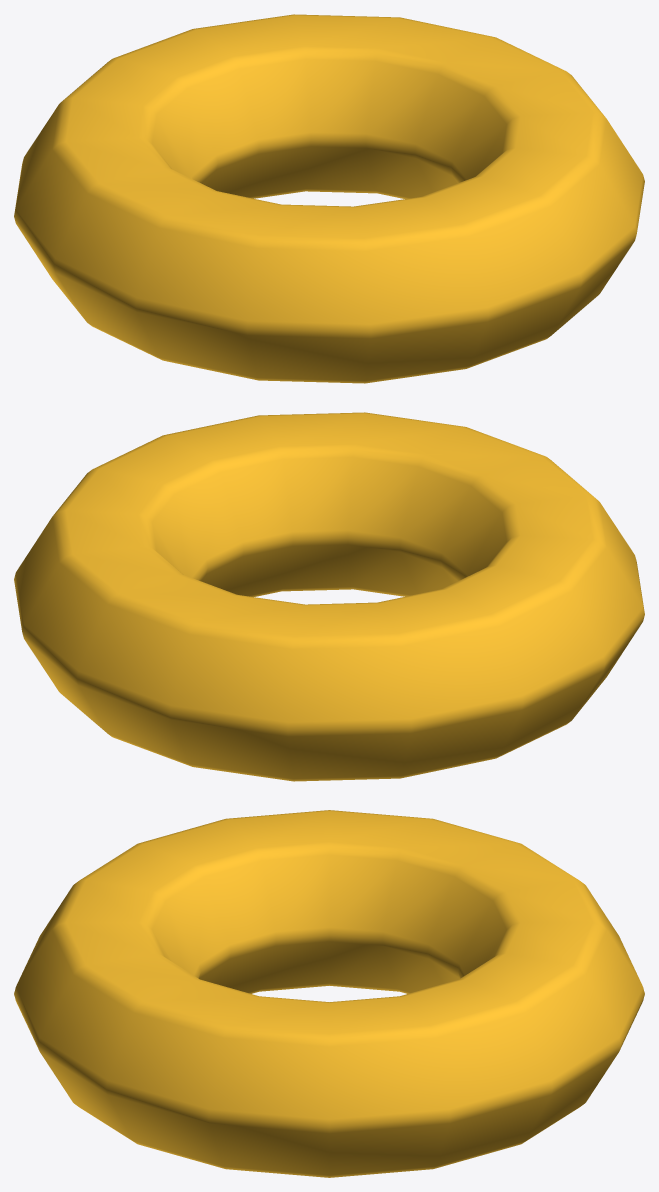
File: Candy_04.fbx
The picture shows the model from 3 angles, top to bottom: view 1: azimuth 30°, elevation 25°; view 2: azimuth 150°, elevation 25°; view 3: azimuth 270°, elevation 25°; orthographic projection.
Parts seen in each view (by area): view 1: Candy_04_Mesh; view 2: Candy_04_Mesh; view 3: Candy_04_Mesh.
Part boxes in pixels (<box>): Candy_04_Mesh: <box>14,14,644,383</box>; Candy_04_Mesh: <box>14,412,644,781</box>; Candy_04_Mesh: <box>14,810,644,1177</box>.
Bounding box in the file's own units: 1.39 × 0.3464 × 1.39.
